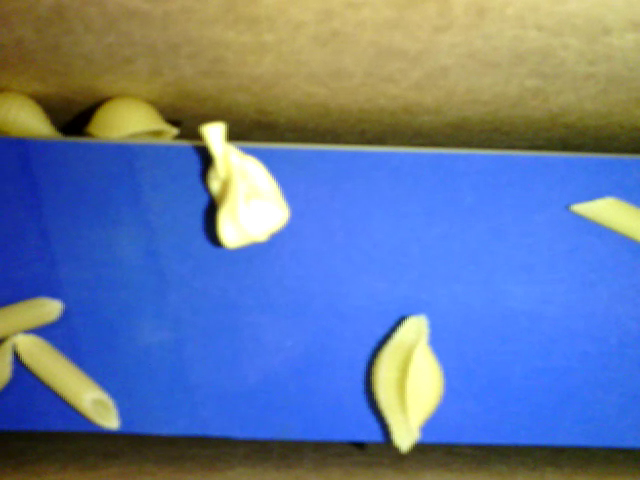penne: (13, 331, 119, 431), (564, 190, 639, 251), (1, 293, 68, 334), (1, 328, 16, 387)
shell: (366, 309, 445, 450), (83, 96, 178, 142), (1, 91, 67, 142)
tortellini: (197, 122, 287, 251)
